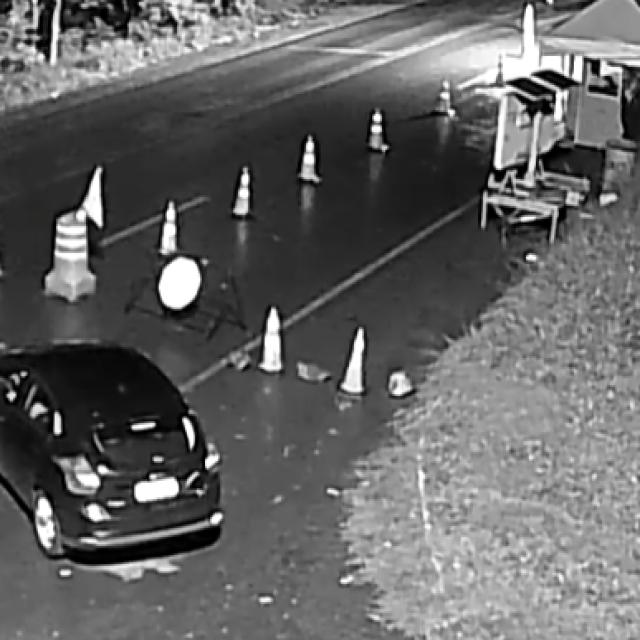big_cone: (54, 208, 91, 300)
small_cone: (338, 322, 370, 396), (259, 304, 287, 379), (227, 162, 259, 222), (158, 197, 184, 261), (293, 130, 322, 186), (363, 103, 392, 155), (429, 75, 459, 122)
